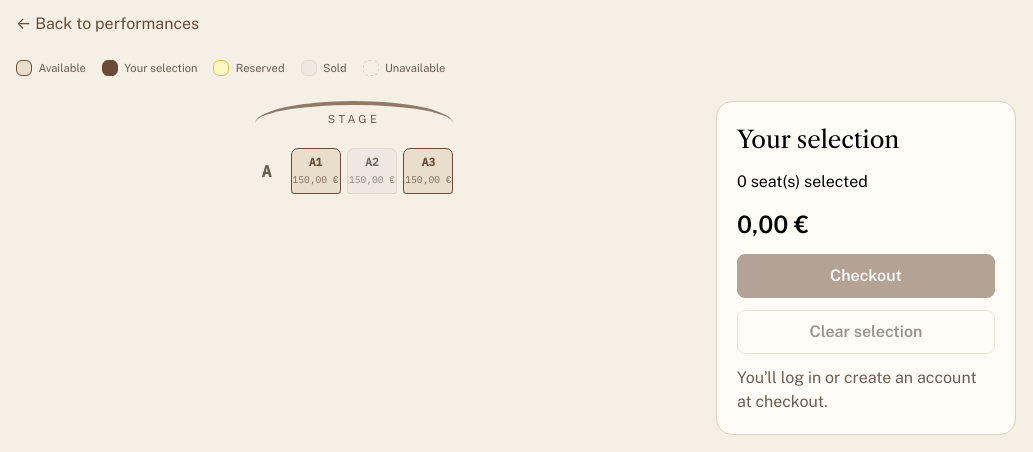
it: SeatSelectionScreen › as a guest › clears its picks locally
Step 1. Click the button named "Seat A1" → (316, 171), box top-left (291, 148), bottom-right (341, 194)
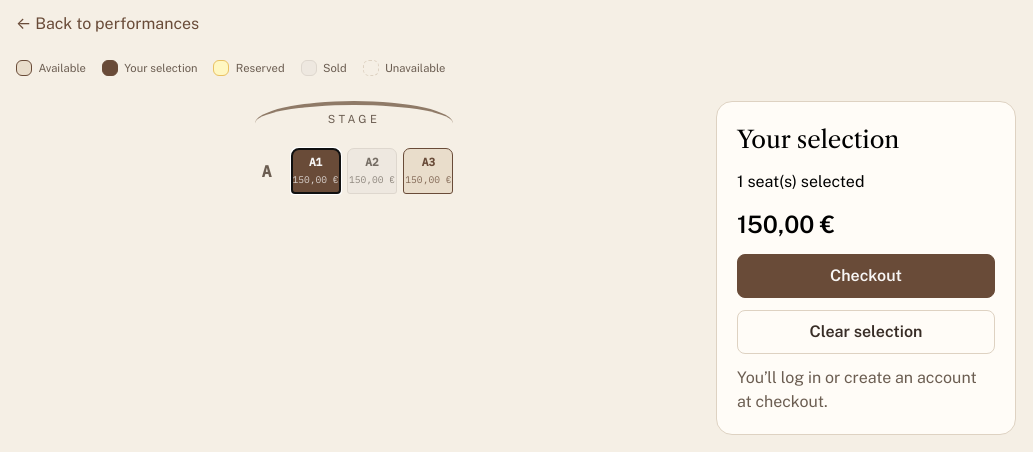
Step 2. Click the button "Clear selection" → (866, 332), box top-left (737, 310), bottom-right (995, 354)
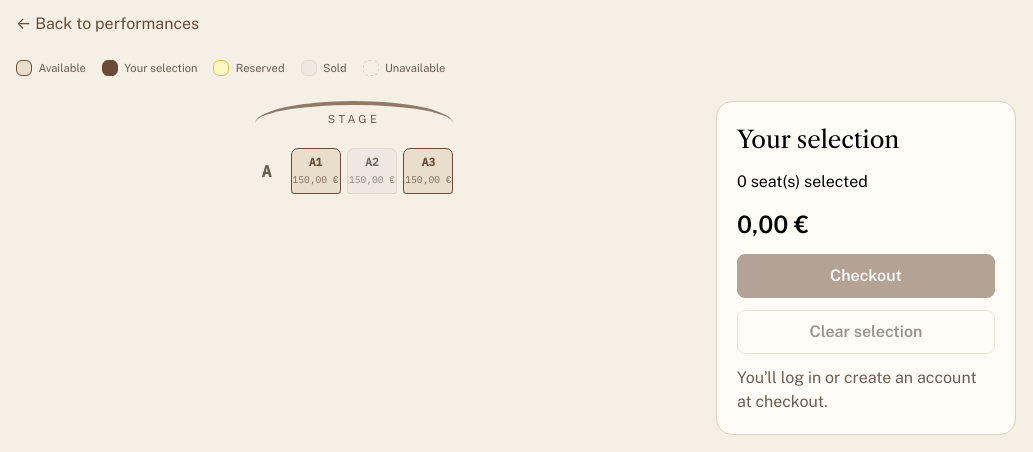
Expected: the text "0 seat(s) selected" is shown, top-left (737, 172), bottom-right (868, 191)
